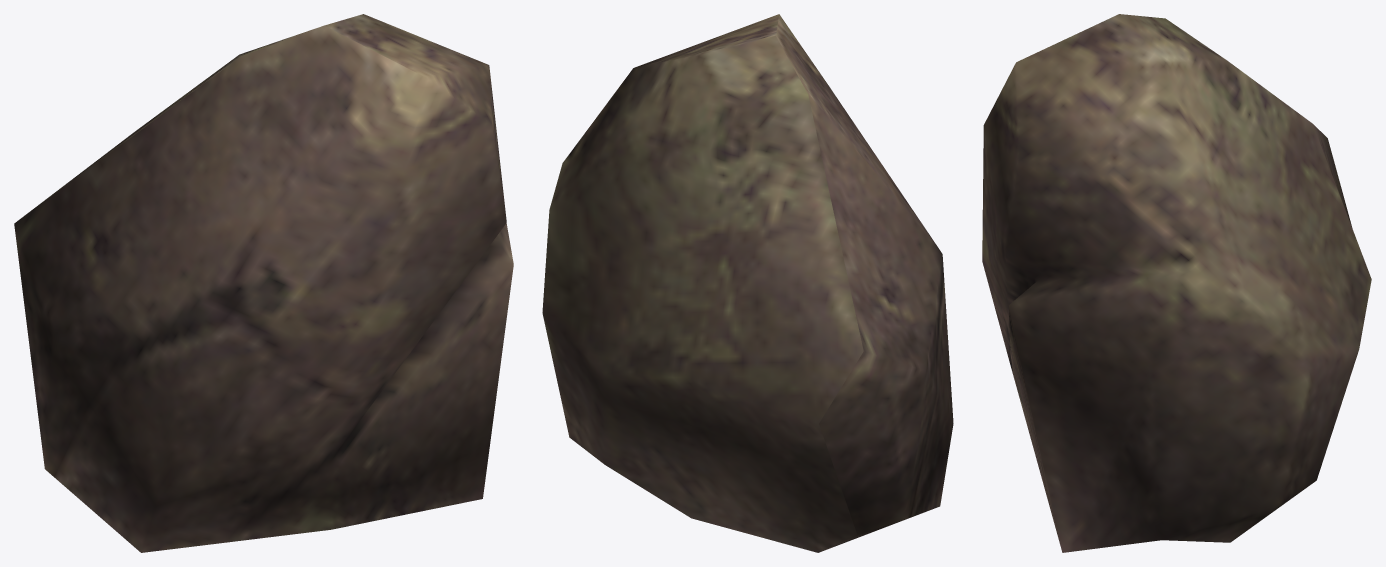
Rendered from stone_001.FBX.
3 views of the same model, side by side, from view 1: azimuth 30°, elevation 25°; view 2: azimuth 150°, elevation 25°; view 3: azimuth 270°, elevation 25° (orthographic). The views are drawn at different scales.
Visible parts, largest first — view 1: stone_001_01; view 2: stone_001_01; view 3: stone_001_01.
Boxes of the visible parts, left/top/right/bottom form: stone_001_01: left=14, top=14, right=513, bottom=552; stone_001_01: left=542, top=14, right=953, bottom=552; stone_001_01: left=982, top=14, right=1371, bottom=552.
Bounding box in the file's own units: 0.761 × 0.8503 × 0.6211.
